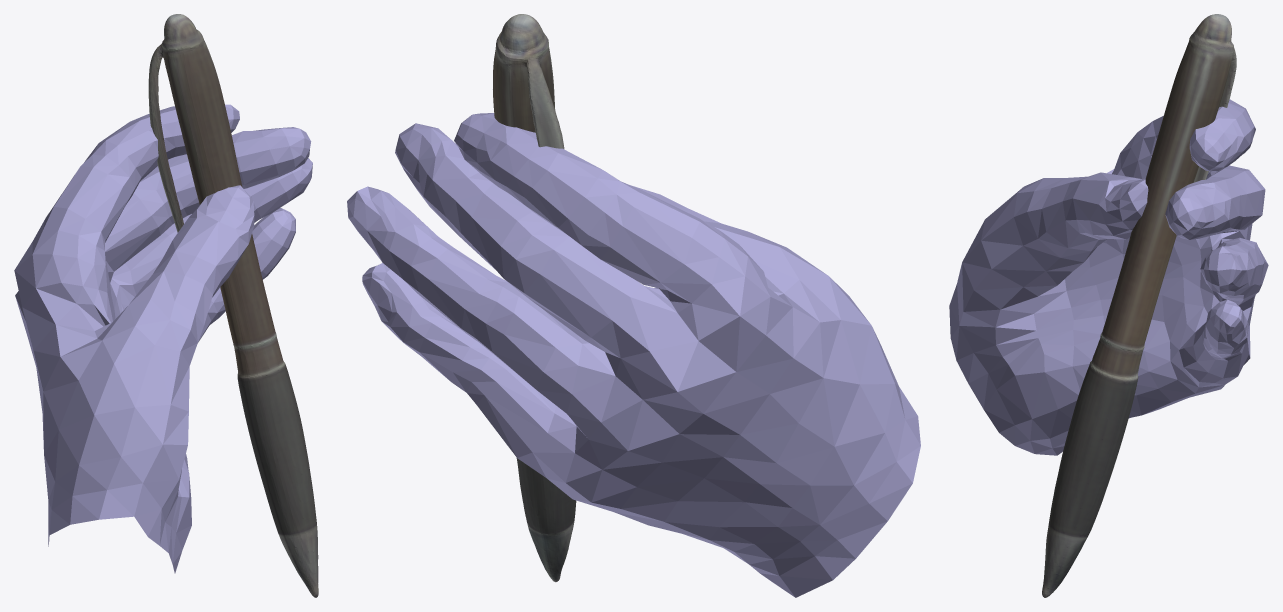
File: frame_0009_source_000009_hand_object.glb
3 views of the same model, side by side, from view 1: azimuth 30°, elevation 25°; view 2: azimuth 150°, elevation 25°; view 3: azimuth 270°, elevation 25° (orthographic). The views are drawn at different scales.
Parts seen in each view (by area): view 1: world; view 2: world; view 3: world.
Part boxes in pixels (x1,y1,x2,y2): world: (14,14,318,597); world: (347,14,920,597); world: (949,14,1268,597).
Bounding box in the file's own units: 0.1293 × 0.1838 × 0.0959.
